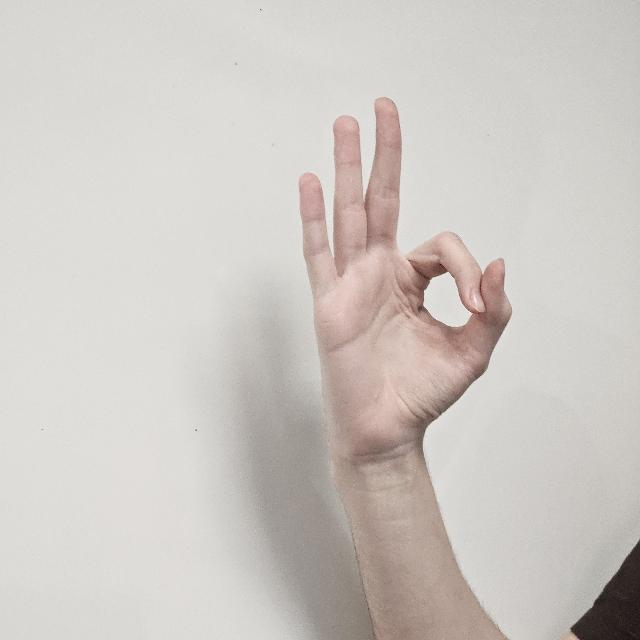Bolinha: (294, 91, 512, 473)
